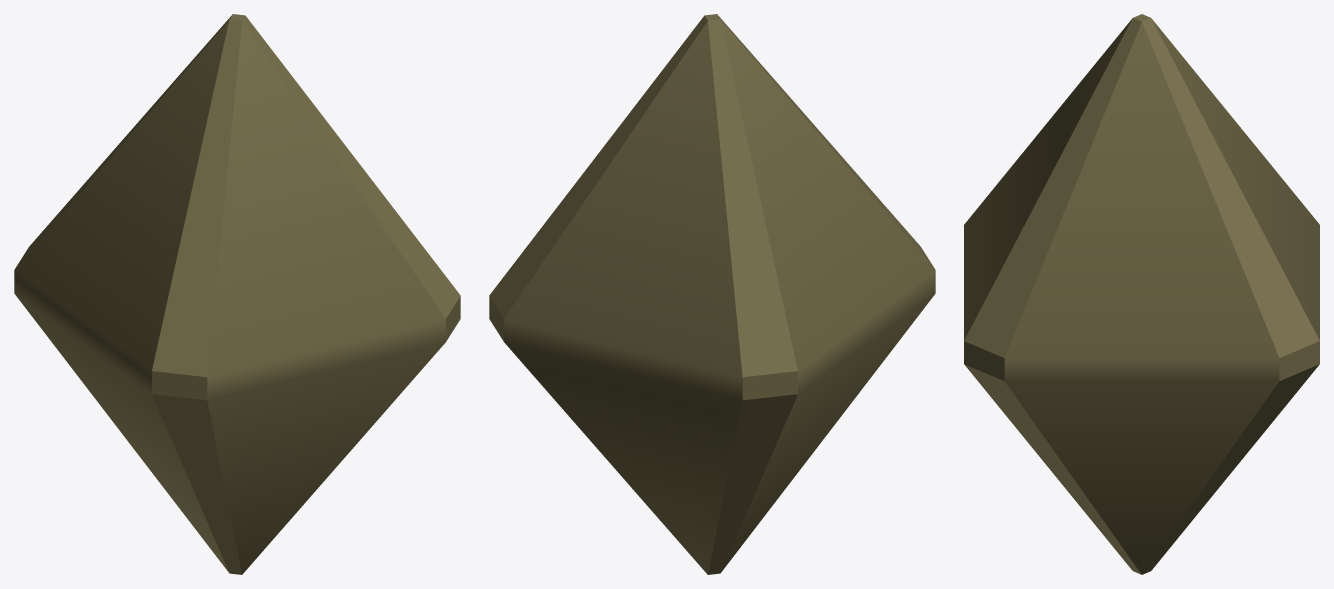
Rendered from ui-gem-pink.glb.
3 renders of one model, left to right at view 1: azimuth 30°, elevation 25°; view 2: azimuth 150°, elevation 25°; view 3: azimuth 270°, elevation 25°, orthographic.
Parts seen in each view (by area): view 1: UI_Gem_Pink; view 2: UI_Gem_Pink; view 3: UI_Gem_Pink.
Part boxes in pixels (x1,y1,x2,y2): UI_Gem_Pink: (14, 14, 460, 574); UI_Gem_Pink: (489, 14, 935, 574); UI_Gem_Pink: (964, 14, 1319, 574).
Bounding box in the file's own units: 0.4229 × 0.7251 × 0.4229.
Materials: 1 (1 with a texture image).
